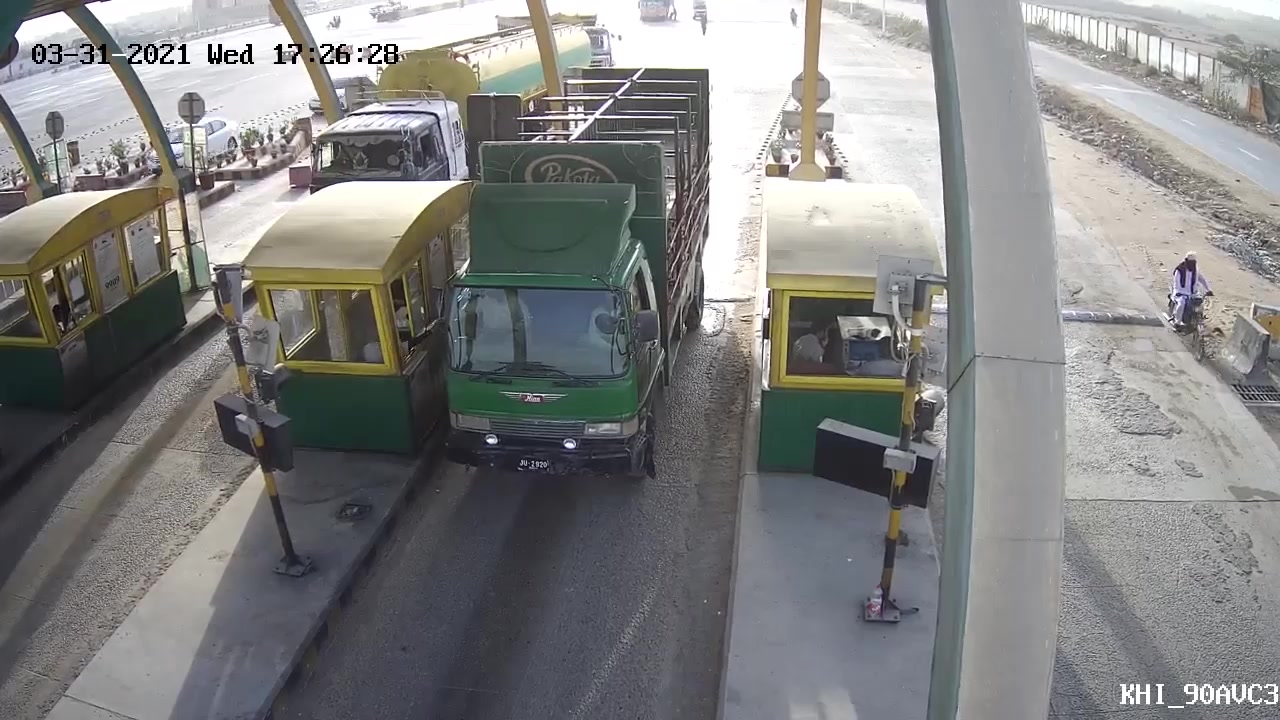F3: (417, 66, 708, 492)
